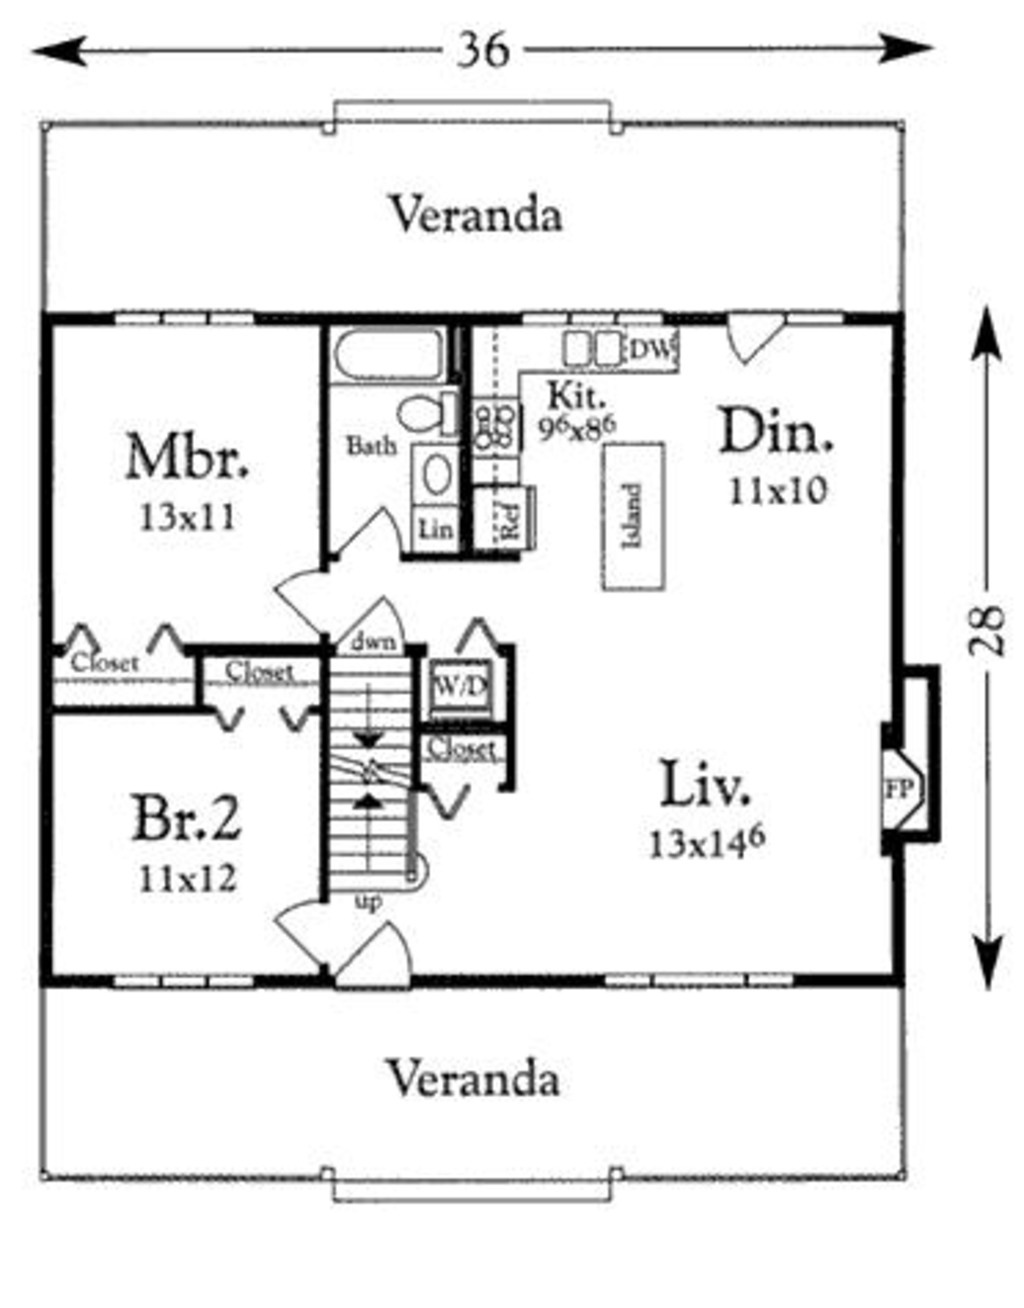door: (335, 916, 407, 992), (273, 560, 339, 634), (267, 895, 330, 971), (715, 310, 794, 367), (335, 503, 405, 564)
large_sink: (385, 389, 459, 437)
stairs: (324, 644, 431, 913)
tub: (324, 319, 451, 392)
windows: (595, 966, 797, 996), (505, 298, 659, 337), (106, 302, 249, 330), (103, 971, 251, 998)
